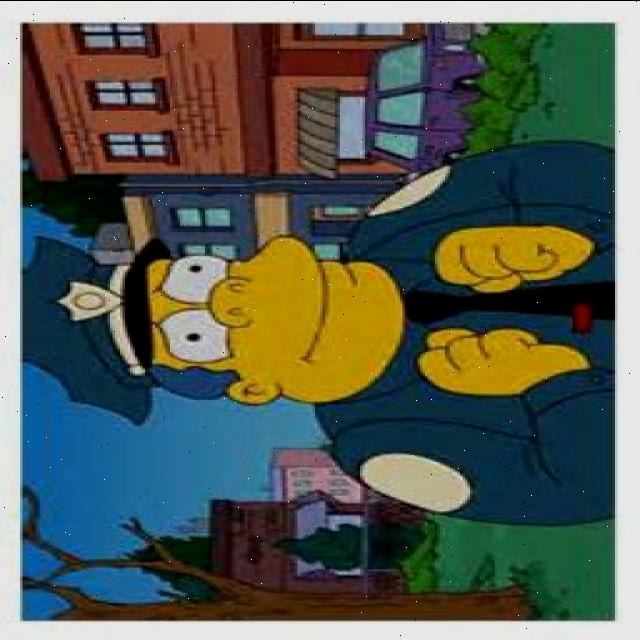Chief Wiggam: (21, 234, 414, 426)
